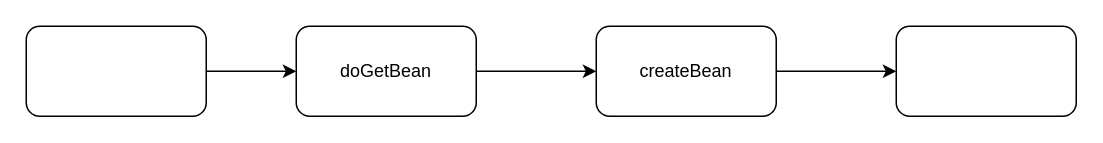
Image size: 1103x143. Some labels were removed from this diagram. Each missing label, with the centre of its shape:
"doCreateBean" goes at (985,70).
"getBean" goes at (115,70).
